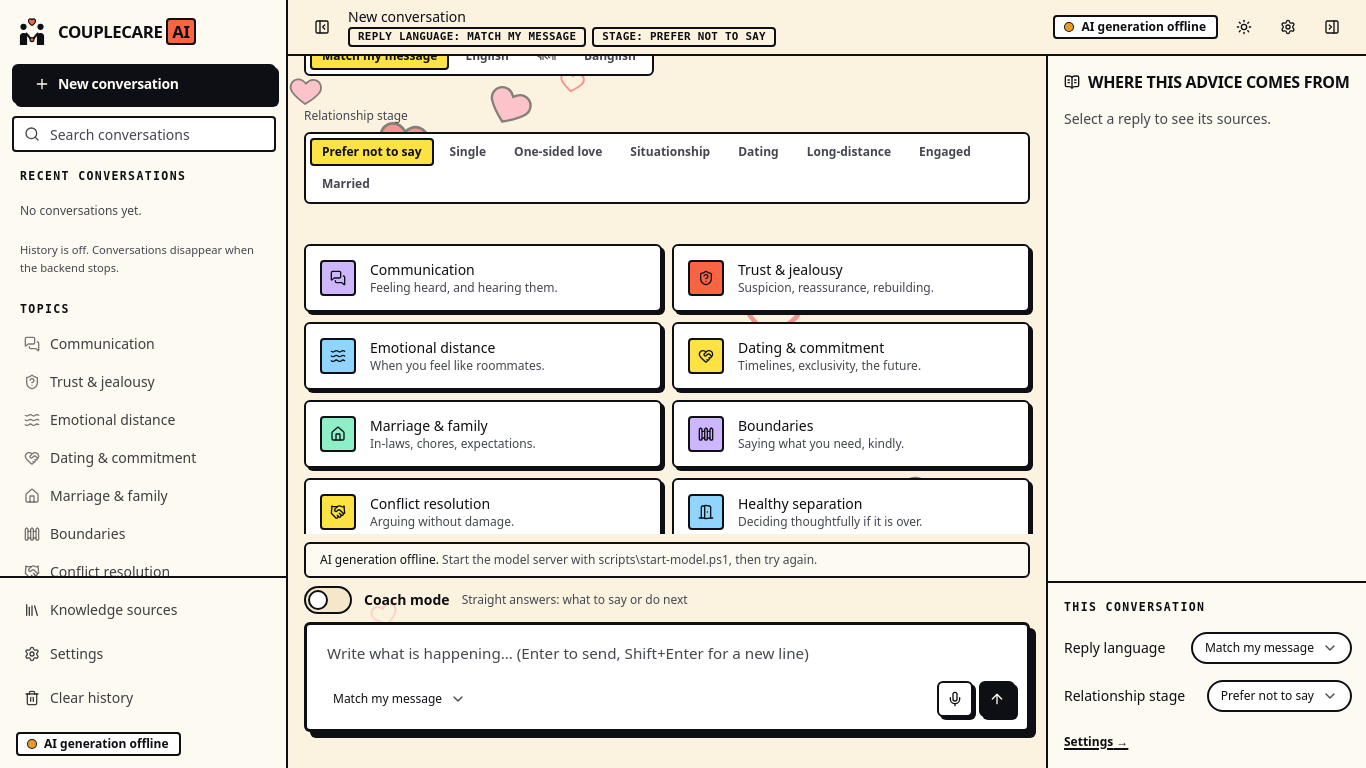
it: Chat page › shows a clear offline state with retry instead of a fake answer
(page scrolled)
In the text box named "Your message": (667, 651) [307,625,1027,677], type "Hello there, we argue a lot"
Then press Enter
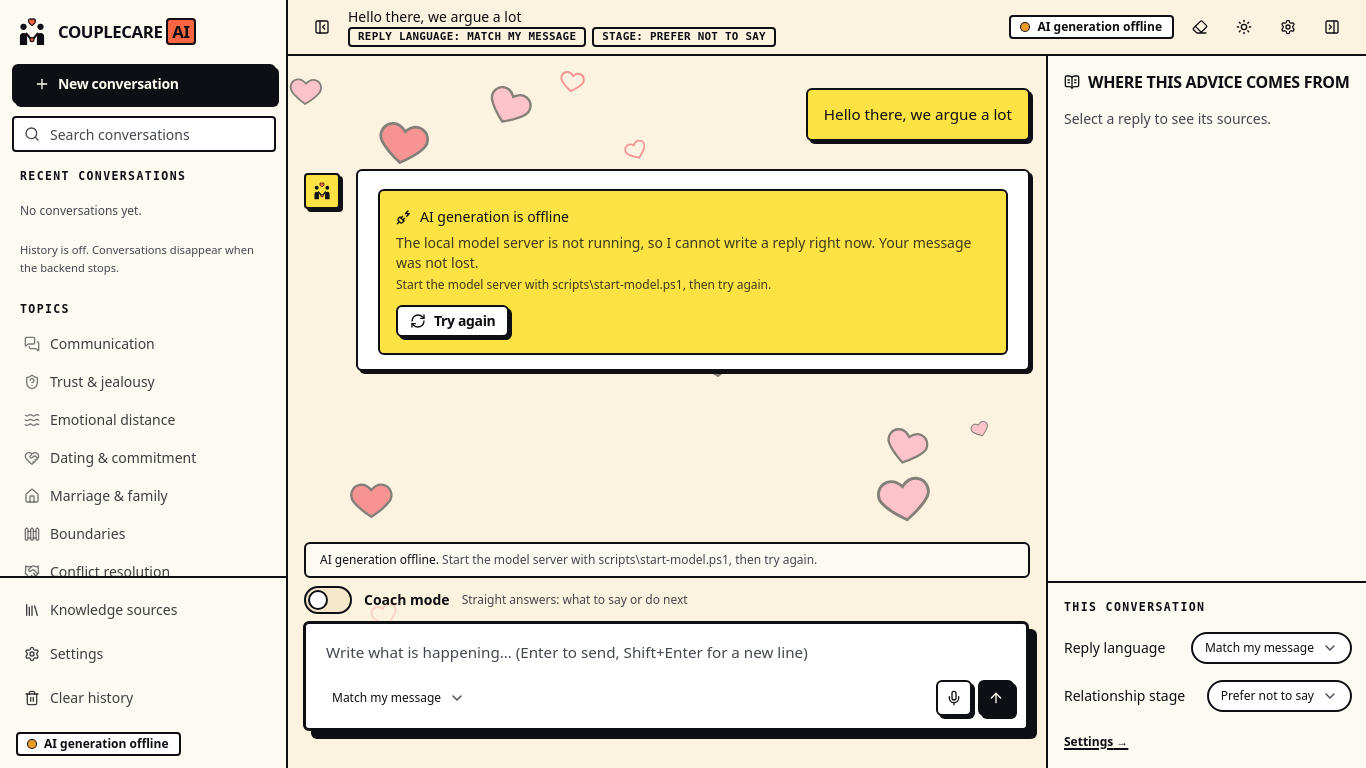
Expected: the text "AI generation offline" below "Knowledge sources" is shown, [44,735,168,752]
Result: the text "AI generation is offline" is shown at [420,207,569,226]
Result: the button "Try again" is shown at [396,305,510,337]
